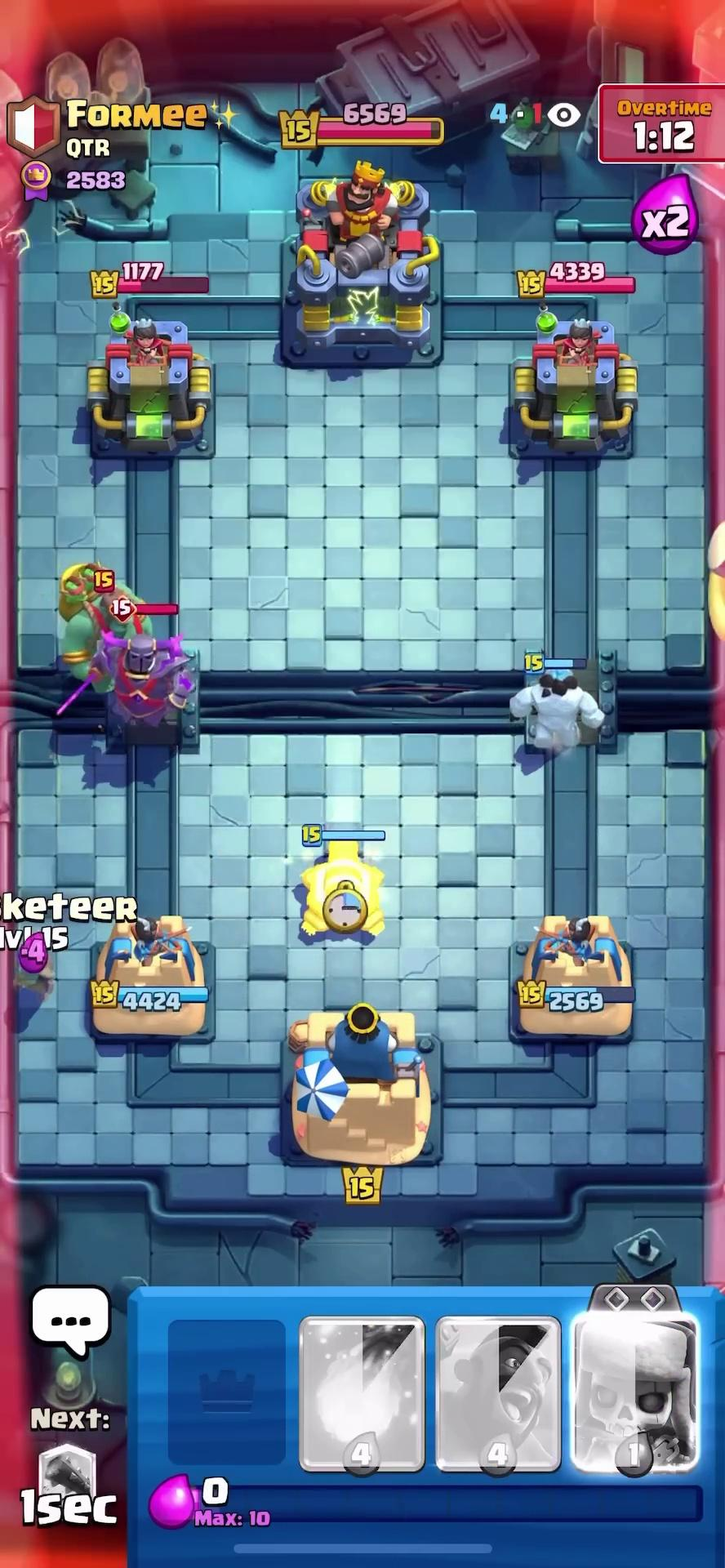cannon: (296, 815, 390, 935)
ice_golem: (502, 641, 610, 776)
